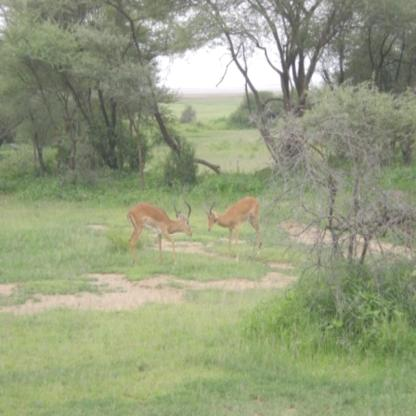Deer: (125, 198, 194, 268), (203, 194, 261, 252)
